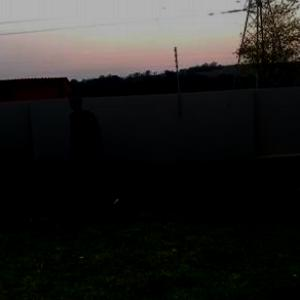follow: (61, 90, 111, 204)
